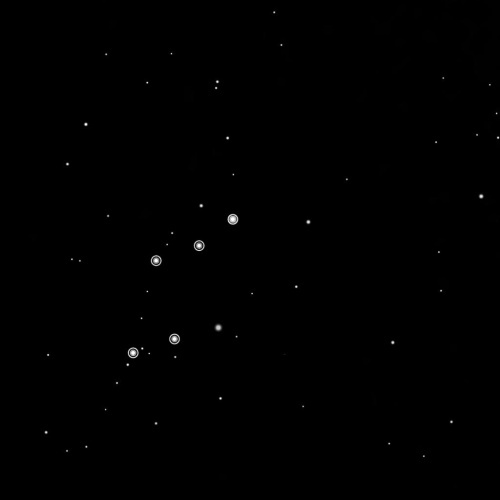lyra: (125, 210, 240, 360)
